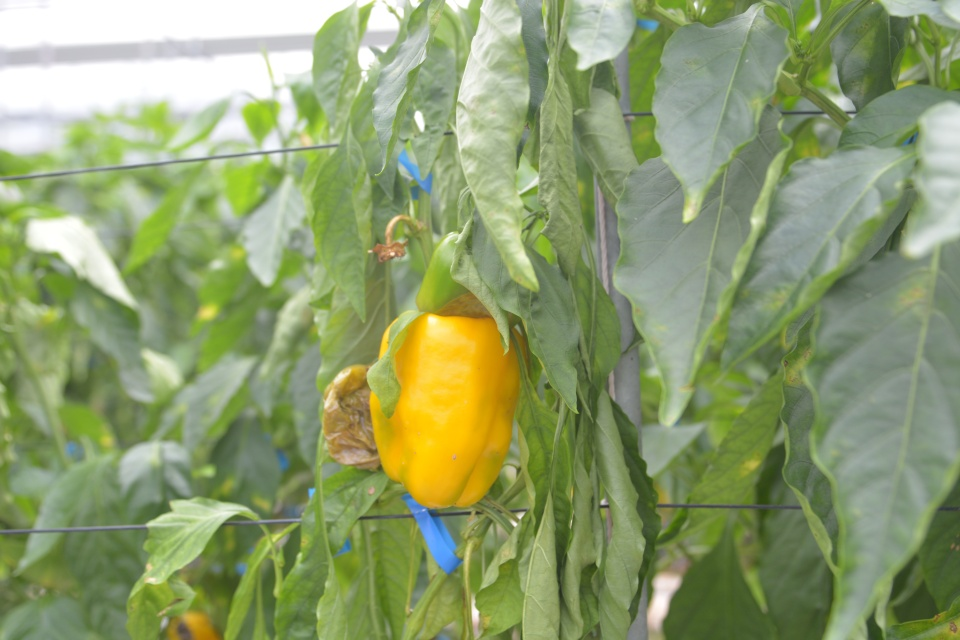fruit: (367, 307, 531, 512)
immature: (412, 229, 471, 314)
